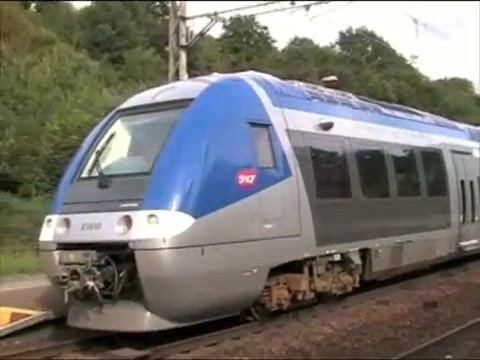train: (35, 70, 480, 342)
